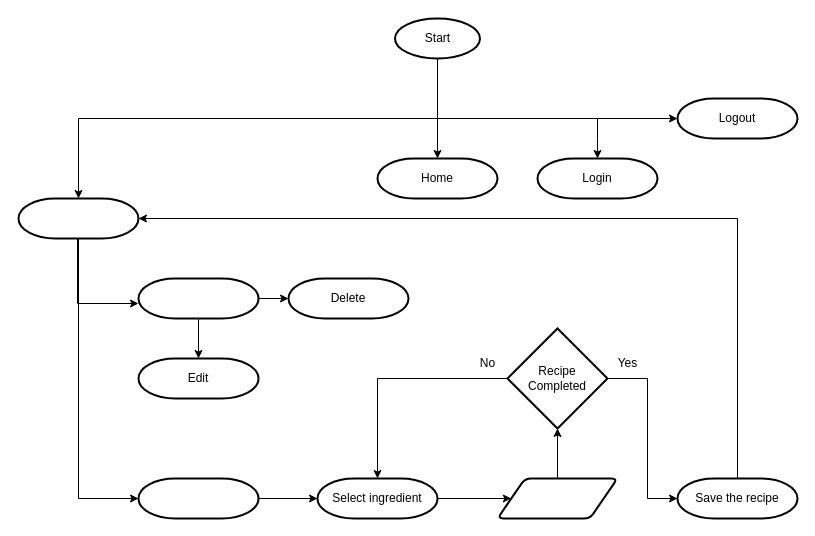
Image size: 815x536. Some labels were removed from this diagram. The centre of each missing label's shape, as x and y in pixels:
"Amount" goes at (557,498).
"Create recipe" goes at (198,498).
"Recipe View" goes at (78,218).
"View food item" goes at (198,298).
